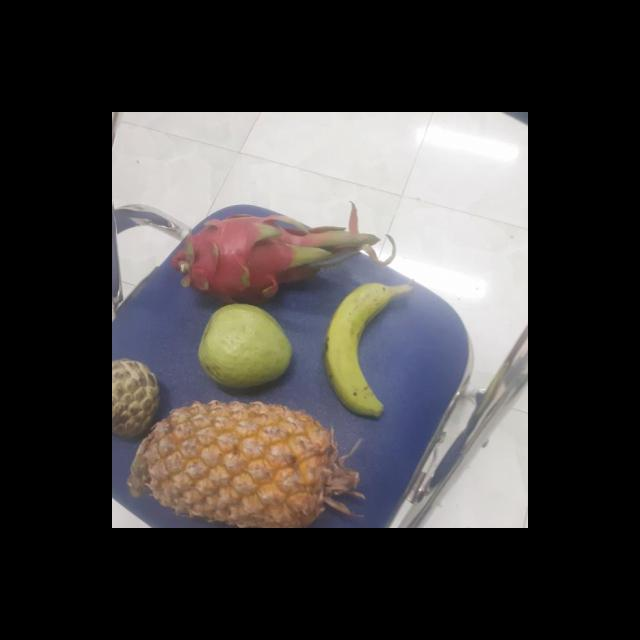Sakya fruit: (112, 360, 167, 438)
banana: (325, 282, 407, 414)
guava: (197, 306, 295, 390)
pineapple: (140, 404, 364, 528)
pitaya: (182, 206, 310, 304)
